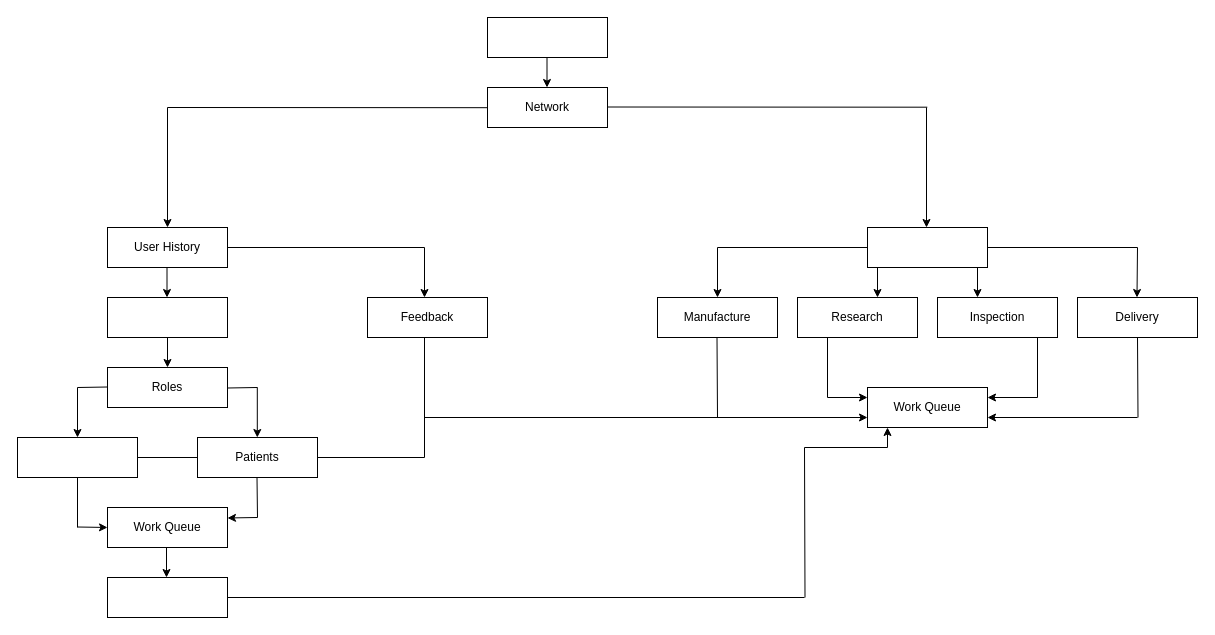
This 1215x635 diagram has some shape labels left out. Here are the shapes that lost their labels. From the top down, the box of each, then its label:
(486, 16, 608, 58): Ecosystem
(866, 226, 988, 268): Compunding Pharmacies Directory
(106, 296, 228, 338): User Accounts
(16, 436, 138, 478): Doctors
(106, 576, 228, 618): Work Request
